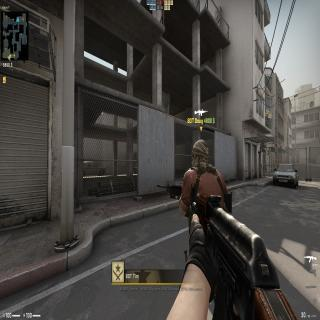T-Head: (191, 140, 208, 166)
